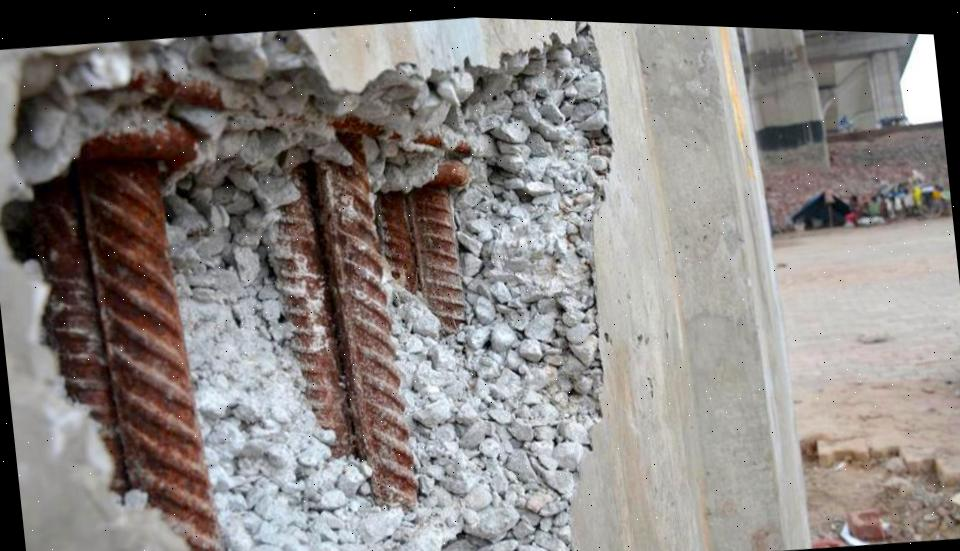spalling: (0, 21, 614, 551)
